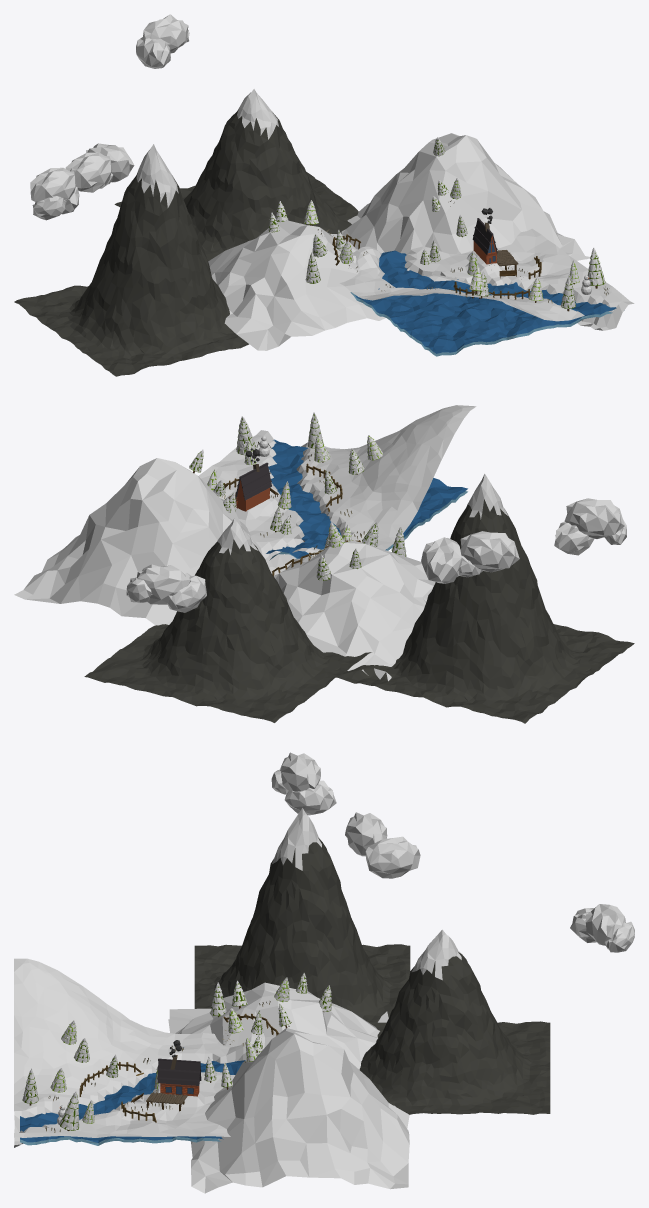
3 views of the same model, one above another, from view 1: azimuth 30°, elevation 25°; view 2: azimuth 150°, elevation 25°; view 3: azimuth 270°, elevation 25° (orthographic). The views are drawn at different scales.
Visible parts, largest first — view 1: Plane.047; view 2: Plane.047; view 3: Plane.047.
Boxes of the visible parts, x1,y1,x2,y2 form: Plane.047: [14, 14, 634, 376]; Plane.047: [14, 405, 634, 723]; Plane.047: [14, 752, 634, 1193].
Bounding box in the file's own units: 34.73 × 12.18 × 34.42.
Materials: 1 (1 with a texture image).
